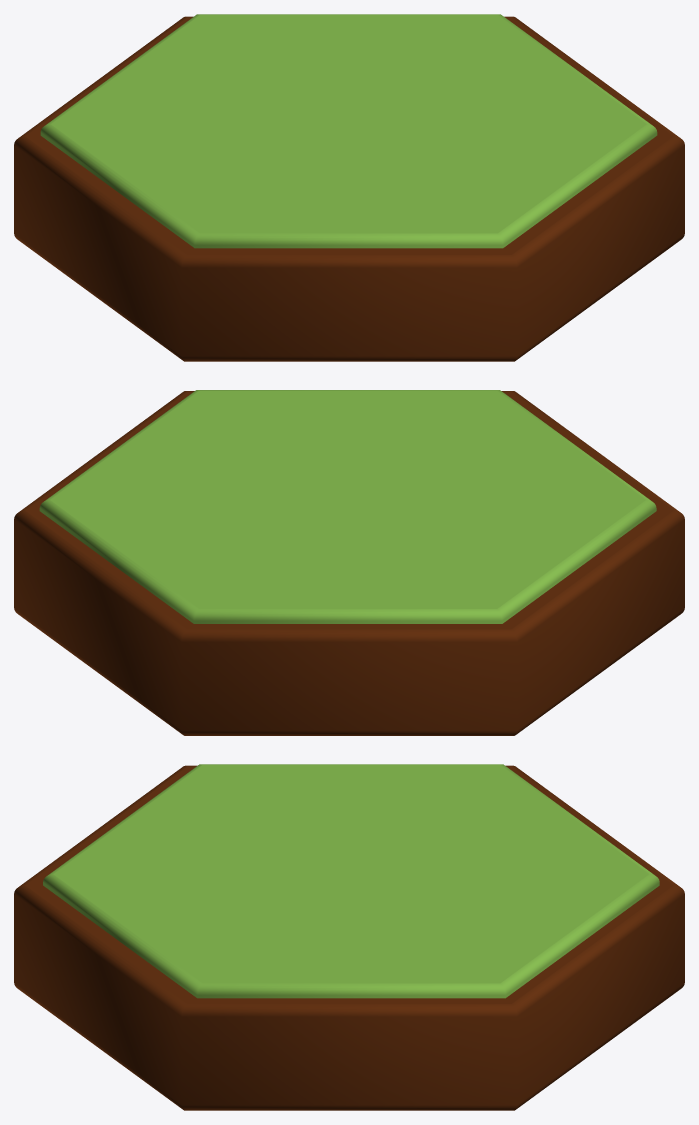
The model's file is tile 1.fbx.
3 views of the same model, one above another, from view 1: azimuth 30°, elevation 25°; view 2: azimuth 150°, elevation 25°; view 3: azimuth 270°, elevation 25° (orthographic).
Visible parts, largest first — view 1: Polygon.002, Polygon; view 2: Polygon.002, Polygon; view 3: Polygon.002, Polygon.
Boxes of the visible parts, box(x1,y1,x2,y2) form: Polygon.002: box(40, 14, 657, 248); Polygon: box(14, 16, 684, 361); Polygon.002: box(39, 390, 656, 623); Polygon: box(14, 391, 684, 735); Polygon.002: box(43, 764, 659, 998); Polygon: box(14, 765, 684, 1110).
Bounding box in the file's own units: 179 × 39.83 × 207.
